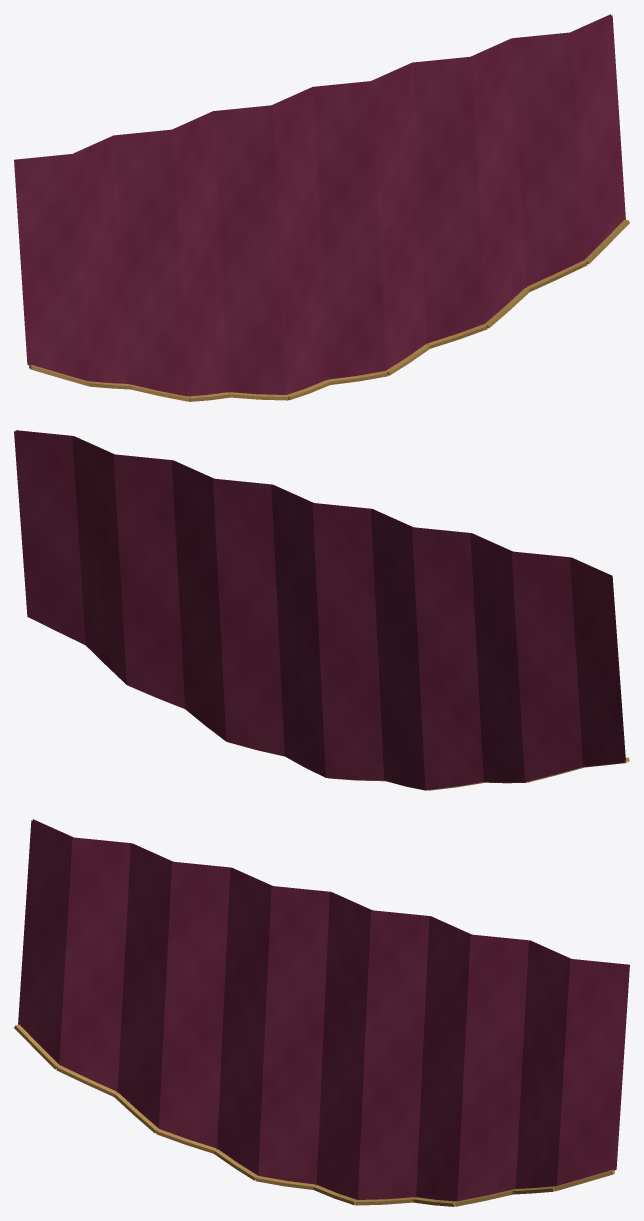
File: SM_Theater_Curtain_Valance8.fbx
The picture shows the model from 3 angles, top to bottom: view 1: azimuth 30°, elevation 25°; view 2: azimuth 150°, elevation 25°; view 3: azimuth 330°, elevation 25°; orthographic projection.
Visible parts, largest first — view 1: SM_Theater_Curtain_Valance8_LOD0; view 2: SM_Theater_Curtain_Valance8_LOD0; view 3: SM_Theater_Curtain_Valance8_LOD0.
Boxes of the visible parts, x1=… form: SM_Theater_Curtain_Valance8_LOD0: x1=14, y1=14, x2=629, y2=401; SM_Theater_Curtain_Valance8_LOD0: x1=14, y1=430, x2=629, y2=790; SM_Theater_Curtain_Valance8_LOD0: x1=14, y1=819, x2=629, y2=1206.
Size of what is drawn, in the model's own units: 8.03 by 3.65 by 0.6103.
